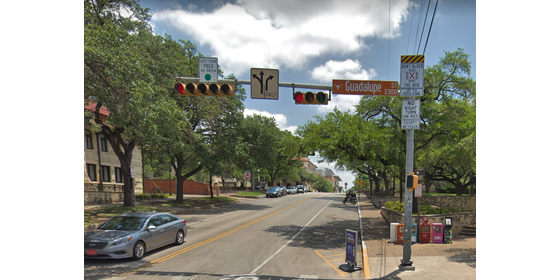dont block the box sign: (401, 52, 424, 97)
except bicycle sign: (401, 118, 419, 129)
left turn yield on green sign: (197, 54, 219, 83)
no right turn on red sign: (400, 101, 420, 119)
right turn only sign: (264, 68, 282, 103)
straight left turn sign: (249, 65, 266, 100)
